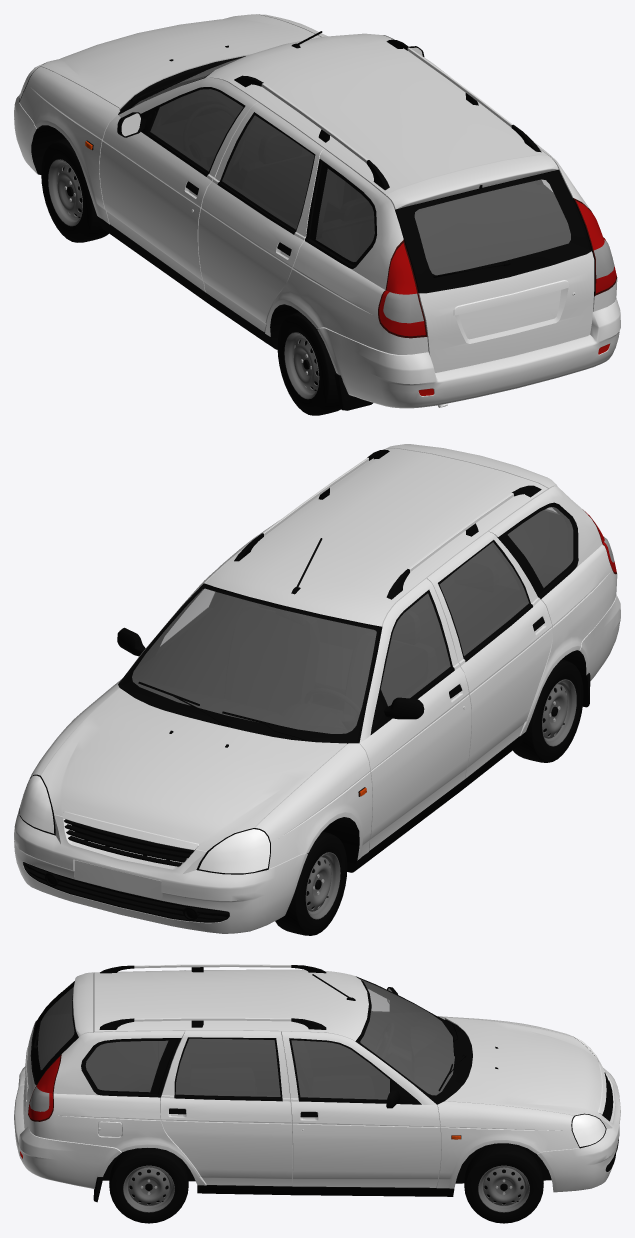
The picture shows the model from 3 angles, top to bottom: view 1: azimuth 30°, elevation 25°; view 2: azimuth 150°, elevation 25°; view 3: azimuth 270°, elevation 25°; orthographic projection. The views are drawn at different scales.
Parts seen in each view (by area): view 1: body, interior, bumper, headlight, wheel_RL, wheel_FL, mirror, mudflap; view 2: body, interior, bumper, wheel_FL, headlight, wheel_RL, mirror, wipper; view 3: body, interior, bumper, wheel_FR, wheel_RR, headlight, mirror.
Part boxes in pixels (<box>): body: <box>19,14,617,372</box>; interior: <box>132,75,570,275</box>; bumper: <box>14,94,620,408</box>; headlight: <box>19,63,617,338</box>; wheel_RL: <box>277,312,340,415</box>; wheel_FL: <box>41,138,108,242</box>; mirror: <box>117,46,424,137</box>; mudflap: <box>334,373,372,410</box>; body: <box>30,444,617,872</box>; interior: <box>132,507,573,733</box>; bumper: <box>14,595,620,933</box>; wheel_FL: <box>275,831,347,935</box>; headlight: <box>19,510,616,874</box>; wheel_RL: <box>513,659,583,762</box>; mirror: <box>117,627,424,731</box>; wipper: <box>138,509,557,742</box>; body: <box>23,964,606,1196</box>; interior: <box>37,979,454,1099</box>; bumper: <box>14,1063,620,1192</box>; wheel_FR: <box>464,1144,543,1223</box>; wheel_RR: <box>109,1148,188,1223</box>; headlight: <box>28,998,606,1148</box>; mirror: <box>386,987,418,1108</box>.
Size of the model in its own units: 190 by 162 by 437.
